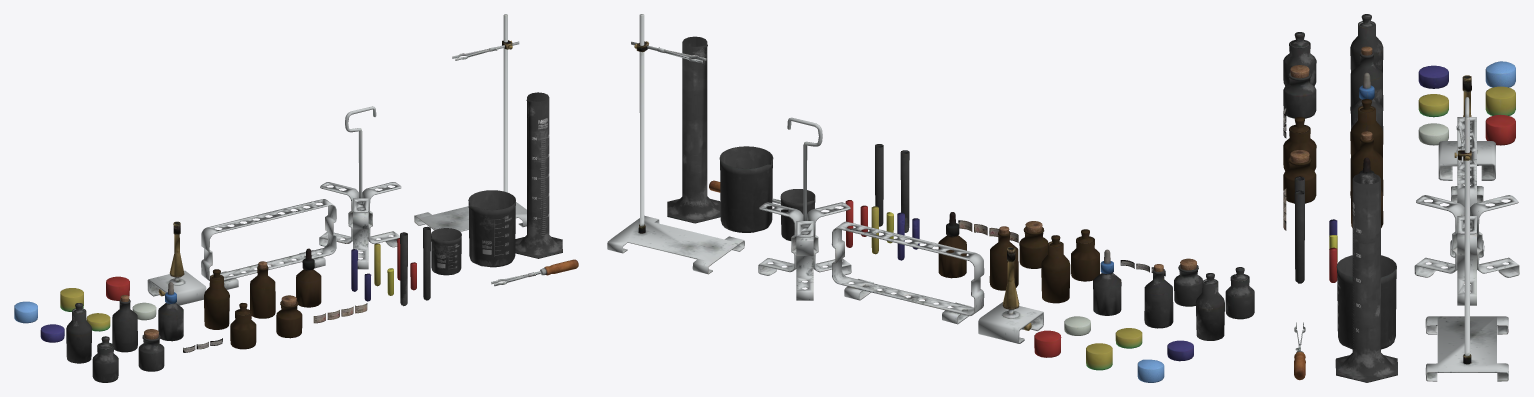
File: chemistry-set.glb
3 renders of one model, left to right at view 1: azimuth 30°, elevation 25°; view 2: azimuth 150°, elevation 25°; view 3: azimuth 270°, elevation 25°, orthographic. The views are drawn at different scales.
Parts seen in each view (by area): view 1: chemistry_set_beaker_large, chemistry_set_beaker_med, chemistry_set_test_tube_stand_b, chemistry_set_test_tube_stand_a, chemistry_set_clamp_stand, chemistry_set_bunsen_burner, chemistry_set_beaker_small, chemistry_set_bottle_clear_c, chemistry_set_bottle_dark_c, chemistry_set_bottle_dark_d, chemistry_set_bottle_clear_d, chemistry_set_bottle_dark_e (+11 smaller); view 2: chemistry_set_beaker_large, chemistry_set_clamp_stand, chemistry_set_beaker_med, chemistry_set_test_tube_stand_a, chemistry_set_test_tube_stand_b, chemistry_set_bunsen_burner, chemistry_set_bottle_clear_c, chemistry_set_bottle_dark_c, chemistry_set_bottle_clear_d, chemistry_set_bottle_clear_e, chemistry_set_bottle_dark_d, chemistry_set_bottle_clear_a (+10 smaller); view 3: chemistry_set_beaker_large, chemistry_set_clamp_stand, chemistry_set_test_tube_stand_b, chemistry_set_beaker_med, chemistry_set_bunsen_burner, chemistry_set_test_tube_stand_a, chemistry_set_bottle_clear_b, chemistry_set_bottle_clear_d, chemistry_set_bottle_dark_b, chemistry_set_bottle_dark_c, chemistry_set_bottle_clear_c, chemistry_set_test_tube_a (+15 smaller).
Part boxes in pixels (x1,y1,x2,y2): chemistry_set_beaker_large: (515, 92, 562, 258); chemistry_set_beaker_med: (468, 190, 515, 267); chemistry_set_test_tube_stand_b: (319, 106, 401, 269); chemistry_set_test_tube_stand_a: (201, 199, 336, 289); chemistry_set_clamp_stand: (414, 14, 526, 231); chemistry_set_bunsen_burner: (147, 221, 206, 305); chemistry_set_beaker_small: (431, 228, 461, 275); chemistry_set_bottle_clear_c: (66, 308, 91, 363); chemistry_set_bottle_dark_c: (204, 275, 229, 329); chemistry_set_bottle_dark_d: (250, 265, 275, 318); chemistry_set_bottle_clear_d: (112, 299, 137, 352); chemistry_set_bottle_dark_e: (296, 269, 321, 307); chemistry_set_beaker_large: (667, 36, 720, 223); chemistry_set_clamp_stand: (607, 14, 744, 274); chemistry_set_beaker_med: (719, 146, 773, 232); chemistry_set_test_tube_stand_a: (831, 221, 984, 324); chemistry_set_test_tube_stand_b: (758, 117, 851, 300); chemistry_set_bunsen_burner: (978, 247, 1043, 343); chemistry_set_bottle_clear_c: (1195, 279, 1224, 340); chemistry_set_bottle_dark_c: (1041, 241, 1070, 303); chemistry_set_bottle_clear_d: (1144, 269, 1173, 328); chemistry_set_bottle_clear_e: (1093, 273, 1121, 315); chemistry_set_bottle_dark_d: (989, 231, 1018, 290); chemistry_set_bottle_clear_a: (1225, 274, 1254, 319); chemistry_set_beaker_large: (1335, 172, 1397, 382); chemistry_set_clamp_stand: (1425, 117, 1508, 381); chemistry_set_test_tube_stand_b: (1414, 97, 1519, 305); chemistry_set_beaker_med: (1336, 255, 1396, 349); chemistry_set_bunsen_burner: (1438, 75, 1495, 180); chemistry_set_test_tube_stand_a: (1450, 117, 1484, 257); chemistry_set_bottle_clear_b: (1283, 72, 1316, 118); chemistry_set_bottle_clear_d: (1350, 52, 1383, 110); chemistry_set_bottle_dark_b: (1283, 157, 1316, 203); chemistry_set_bottle_dark_c: (1350, 106, 1383, 157); chemistry_set_bottle_clear_c: (1350, 21, 1383, 72); chemistry_set_test_tube_a: (1294, 190, 1304, 283).
Bounding box in the file's own units: 1.08 × 0.4289 × 0.3534.
2 materials, 2 textured.
